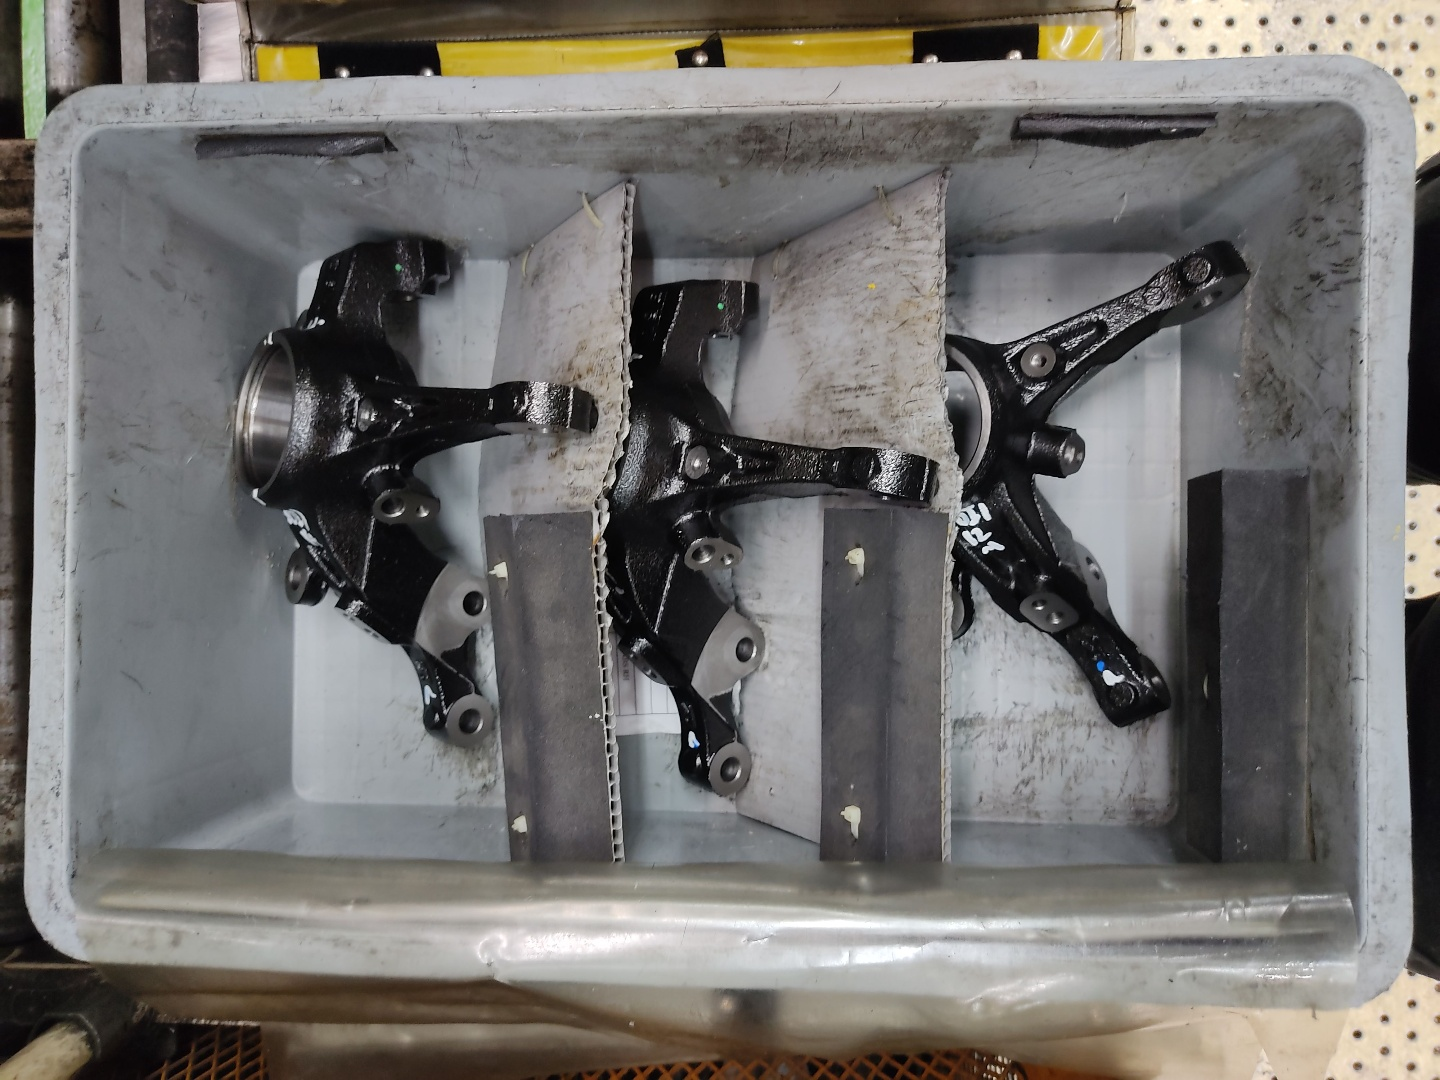abs-rh: (222, 218, 603, 760), (600, 260, 951, 809), (940, 228, 1264, 735)
